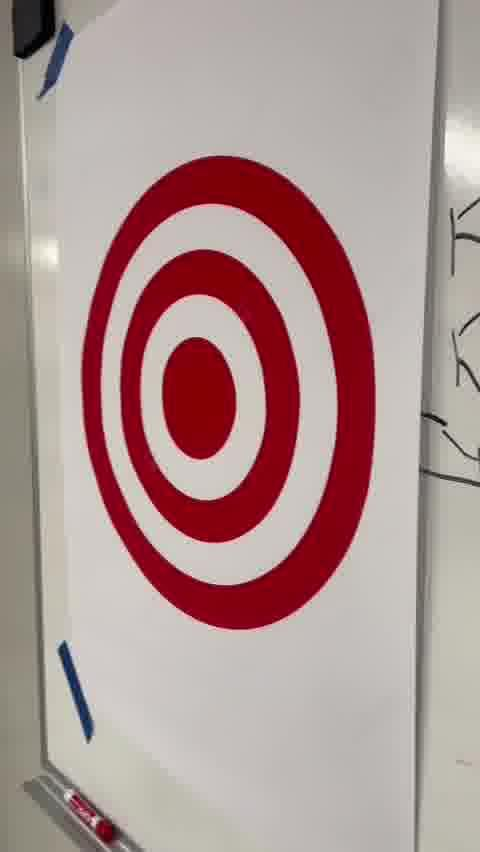target_red: (80, 157, 375, 635)
